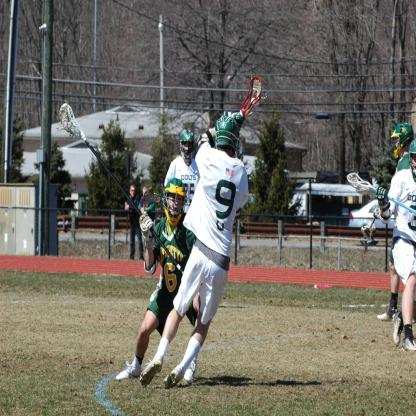Helmet: (160, 173, 191, 227), (214, 113, 238, 157), (390, 123, 414, 158), (178, 129, 195, 168), (406, 140, 416, 183)
